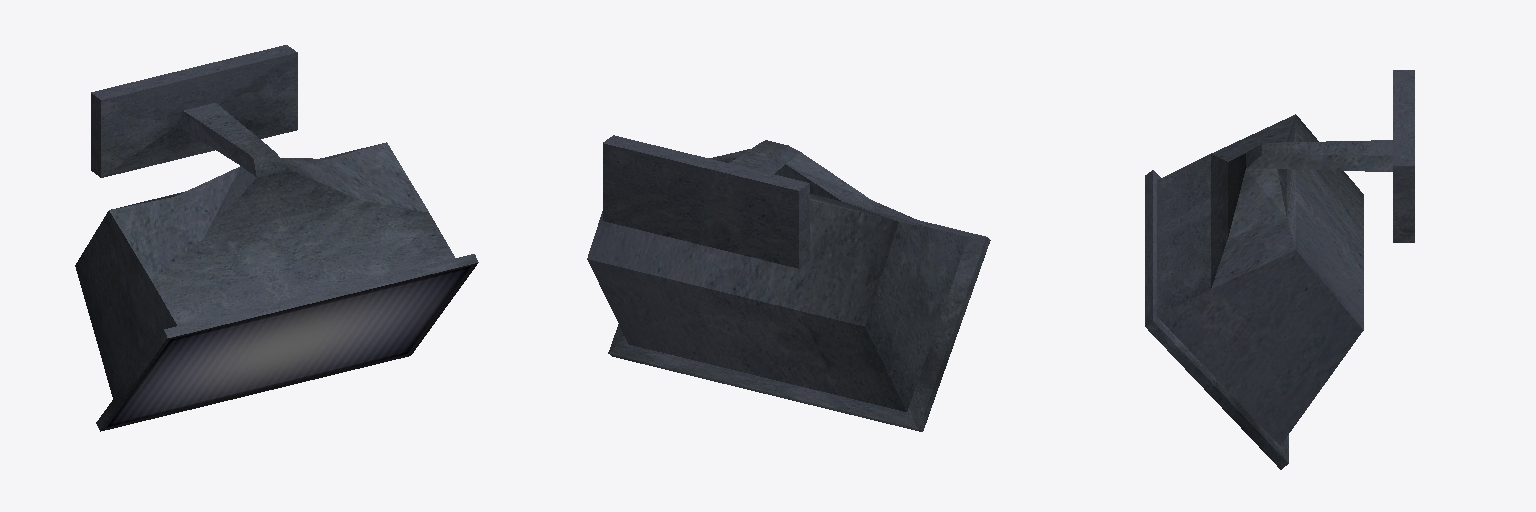
3 renders of one model, left to right at view 1: azimuth 30°, elevation 25°; view 2: azimuth 150°, elevation 25°; view 3: azimuth 270°, elevation 25°, orthographic.
Visible parts, largest first — view 1: skin; view 2: skin; view 3: skin.
Part boxes in pixels (x1,y1,x2,y2): skin: (75,45,478,431); skin: (587,135,990,431); skin: (1145,70,1414,469).
Size of the model in its own units: 3.8 by 3.23 by 2.85.
Materials: 1 (1 with a texture image).